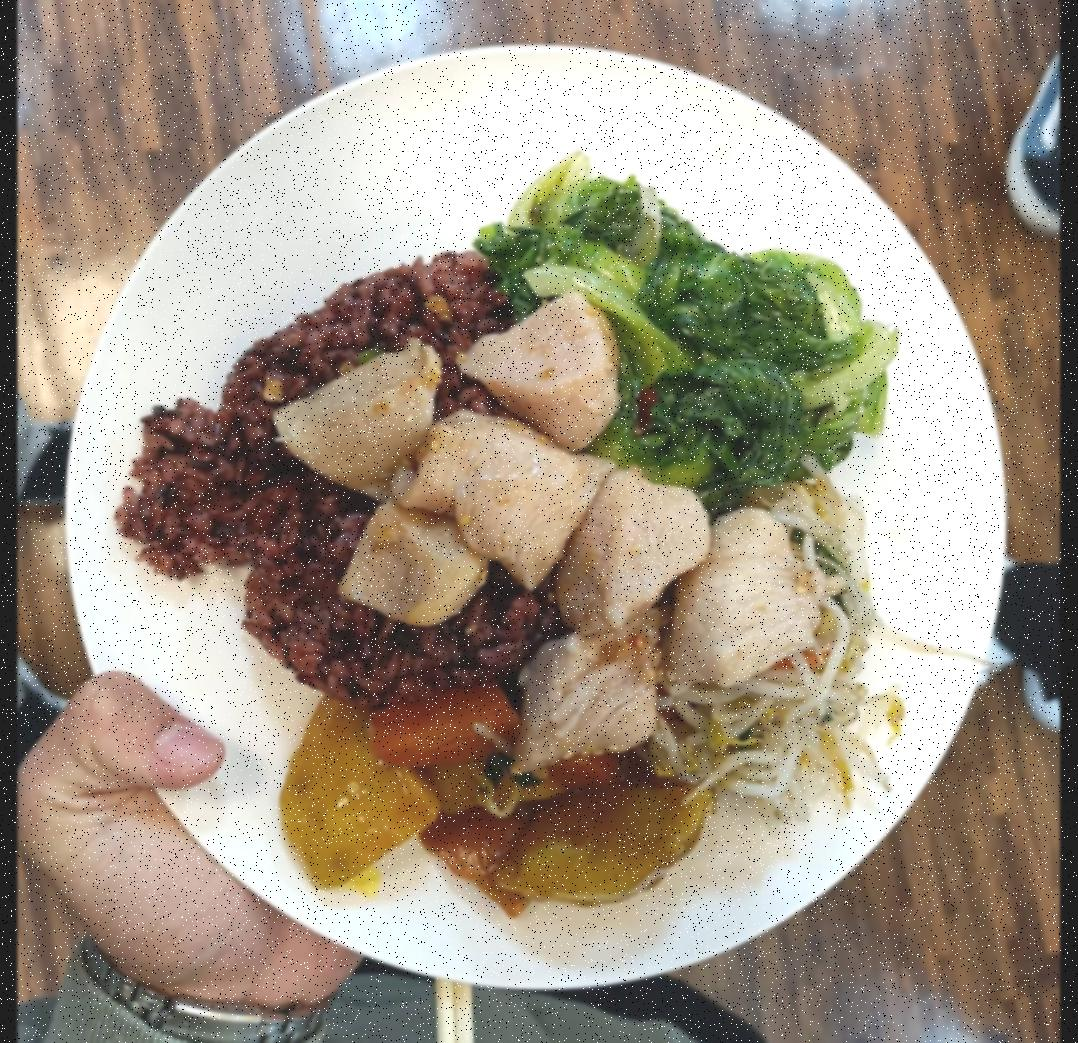plate: (62, 33, 1010, 1000)
purple rice: (112, 240, 578, 694)
scallion chicken: (274, 320, 828, 770)
side dish: (484, 158, 905, 499), (272, 686, 712, 926), (677, 501, 895, 808)
